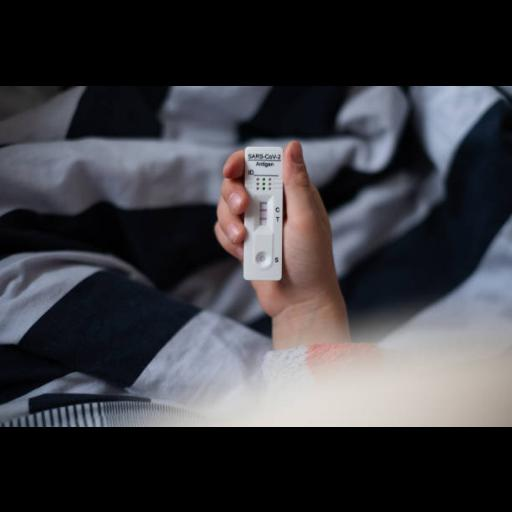Pos: (244, 144, 282, 278)
